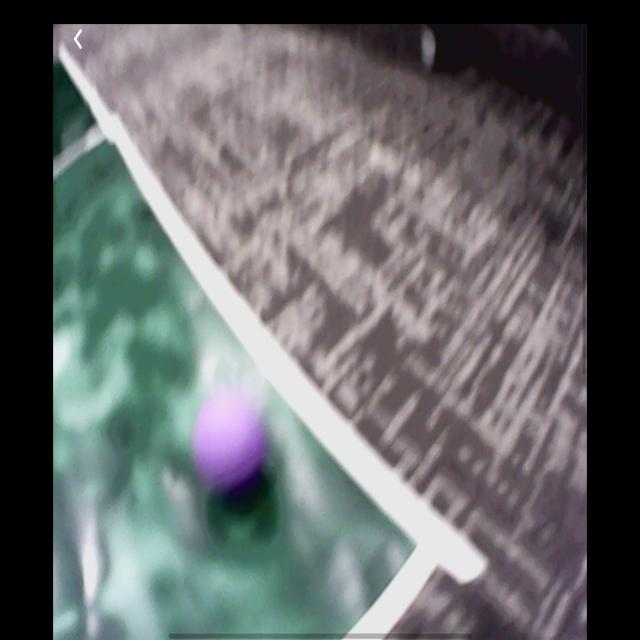ball: (195, 391, 266, 489)
